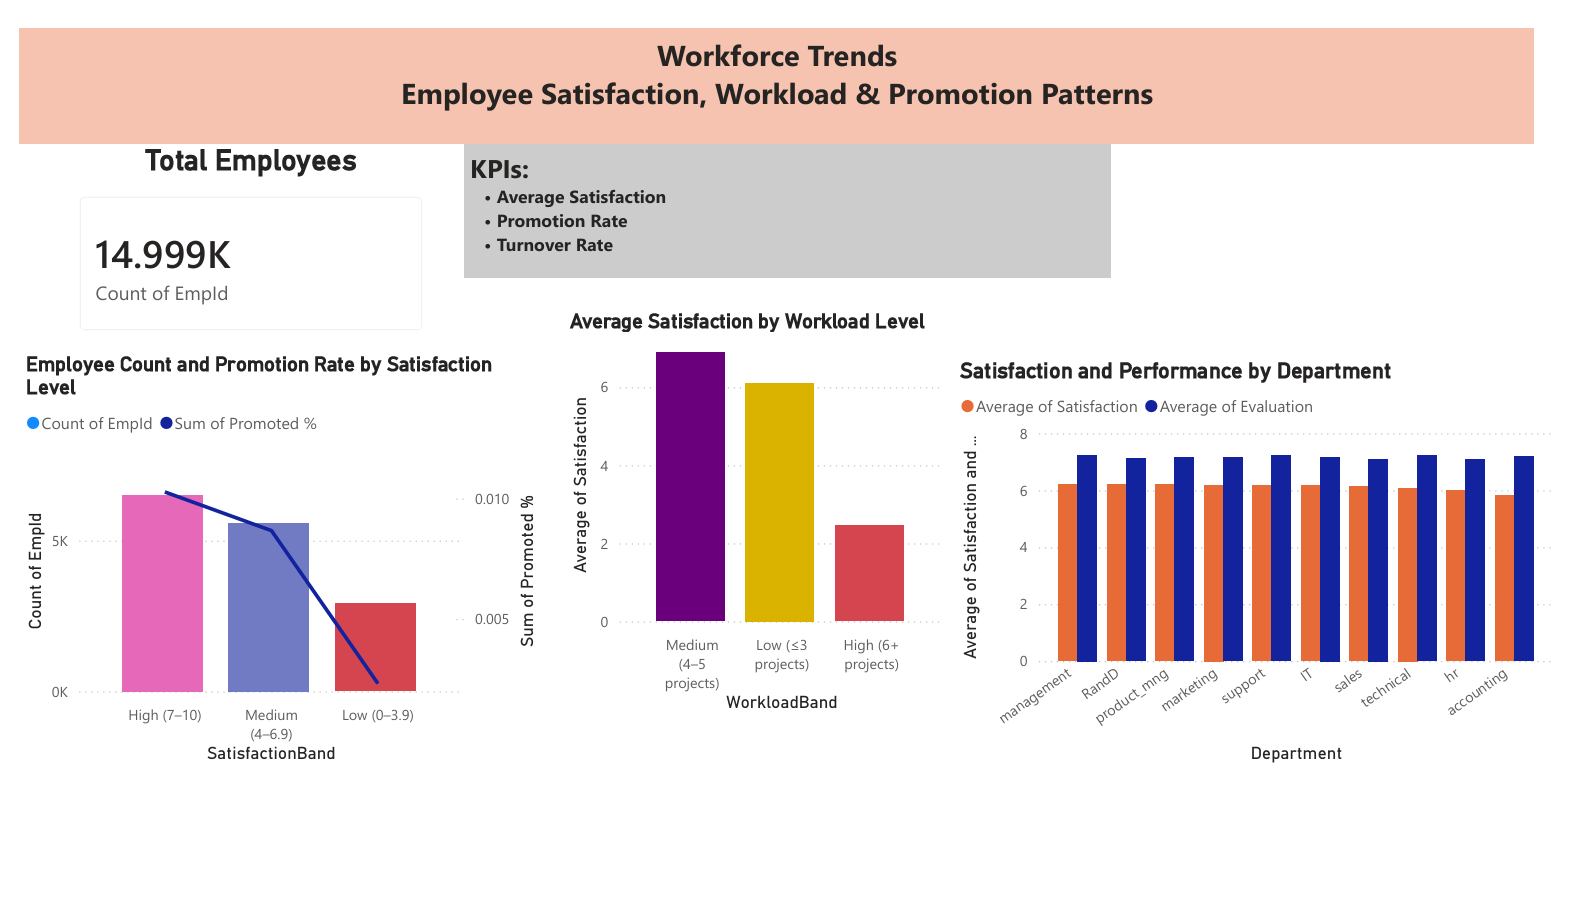

This screenshot's page, from the dashboard's own definition file:
{"tool":"powerbi","page":{"name":"Workforce Trends","canvas":[1280,720],"ordinal":1},"visuals":[{"type":"clusteredColumnChart","title":"Satisfaction and Performance by Department","fields":{"Category":["Sheet1.Department"],"Y":["Avg(Sheet1.Satisfaction)","Avg(Sheet1.Evaluation)"]},"box":[778.1,274.5,503.6,341.7],"z":1000},{"type":"lineClusteredColumnComboChart","title":"Employee Count and Promotion Rate by Satisfaction Level","fields":{"Category":["Sheet1.SatisfactionBand"],"Y":["CountNonNull(Sheet1.EmpId)"],"Y2":["Sum(Sheet1.Promoted %)"]},"box":[0,269,433.7,347.2],"z":3000},{"type":"cardVisual","title":"Total Employees","fields":{"Data":["CountNonNull(Sheet1.EmpId)"]},"box":[32.6,96.3,319.9,172.4],"z":4000},{"type":"textbox","box":[0,0,1260.9,96.3],"z":5000},{"type":"clusteredColumnChart","title":"Average Satisfaction by Workload Level","fields":{"Category":["Sheet1.WorkloadBand"],"Y":["Avg(Sheet1.Satisfaction)"]},"box":[453.4,232.9,320.8,341.5],"z":6000},{"type":"textbox","box":[369.6,96.3,538.8,110.2],"z":7000}]}

Visuals, with their boxes on the page's 1280x720 design canvas (x1, y1, x2, y2). These are canvas units, not pixel positions in the 1581x922 screenshot, which may show the page scaled, cropped or inside an application window:
"Satisfaction and Performance by Department" clusteredColumnChart: bbox=[778, 274, 1282, 616]
"Employee Count and Promotion Rate by Satisfaction Level" lineClusteredColumnComboChart: bbox=[0, 269, 434, 616]
"Total Employees" cardVisual: bbox=[33, 96, 352, 269]
textbox: bbox=[0, 0, 1261, 96]
"Average Satisfaction by Workload Level" clusteredColumnChart: bbox=[453, 233, 774, 574]
textbox: bbox=[370, 96, 908, 206]
